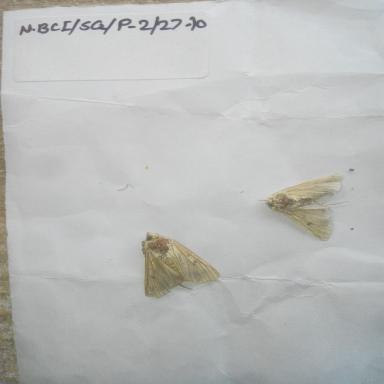abw: (134, 225, 228, 306), (258, 170, 354, 244)
